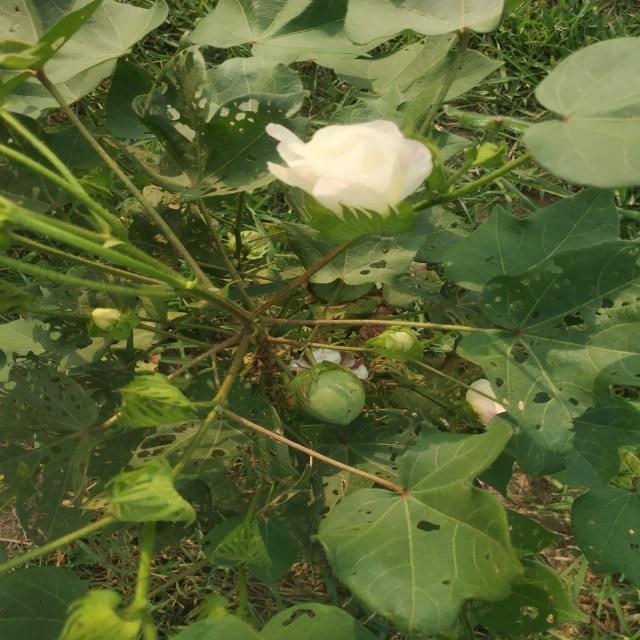Cotton Blossom: (261, 114, 441, 231)
Cotton Bud: (98, 456, 196, 534), (117, 371, 201, 437), (59, 587, 145, 640)
Early Boll: (292, 356, 368, 434)
